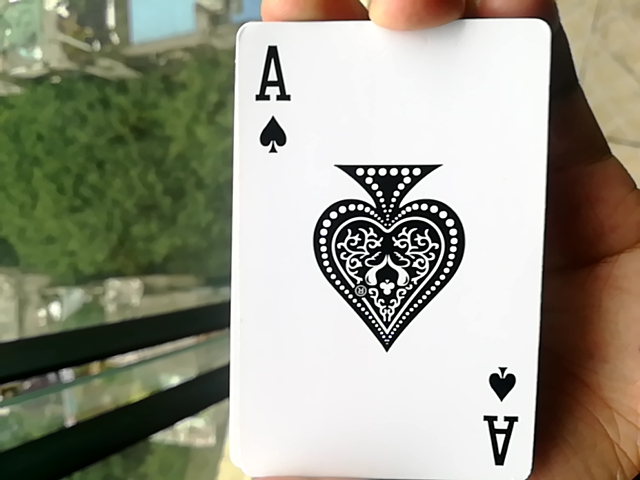ht a: (215, 36, 559, 480)
